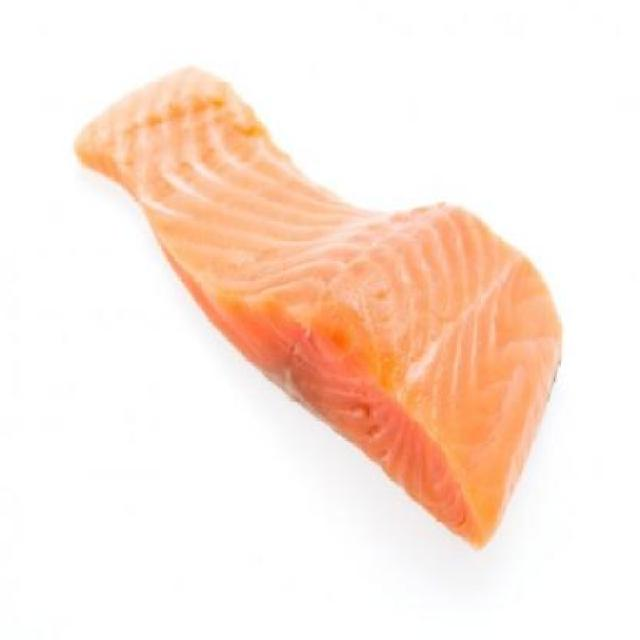salmon: (57, 71, 573, 562)
